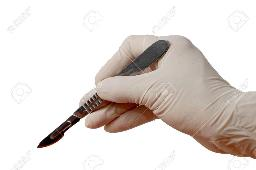scalpel: (37, 40, 169, 148)
